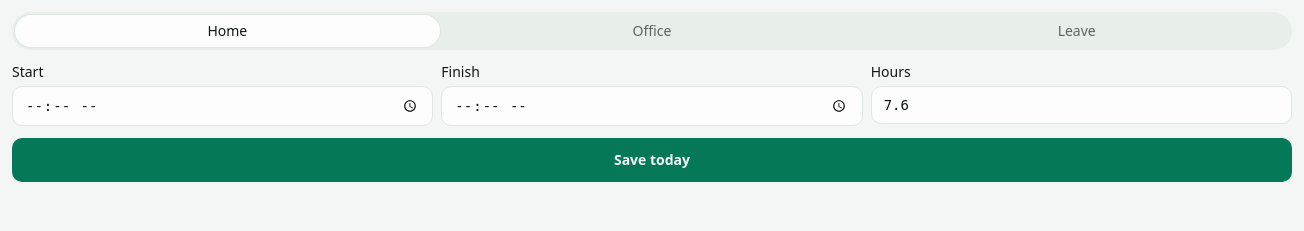
it: DayEditor › saving › shows an error for a failed write, re-enables the button and stays open
Type "08:30" into the time field labelled "Start". click: (223, 106)
box: [12,86,433,126]
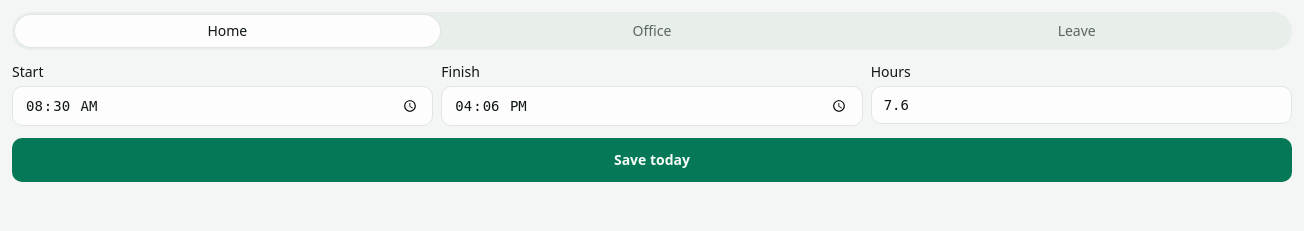
Click the button "Save today". click: (652, 160)
box: [12,138,1292,182]
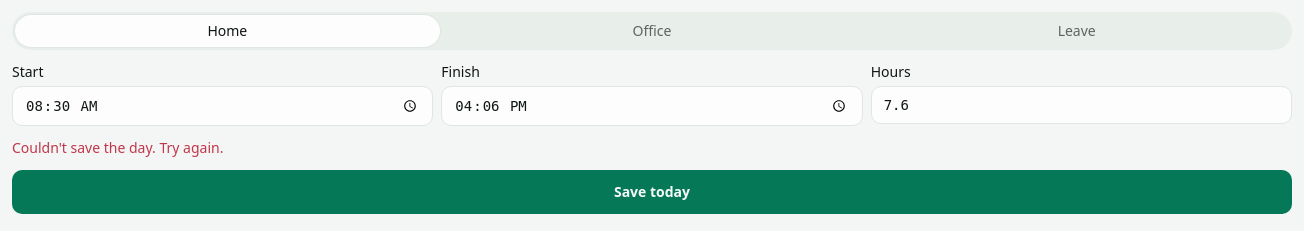
Expected: the button "Save today" is enabled, [12,170,1292,214]
Expected: the message reads "Couldn't save the day. Try again.", [12,138,223,157]
